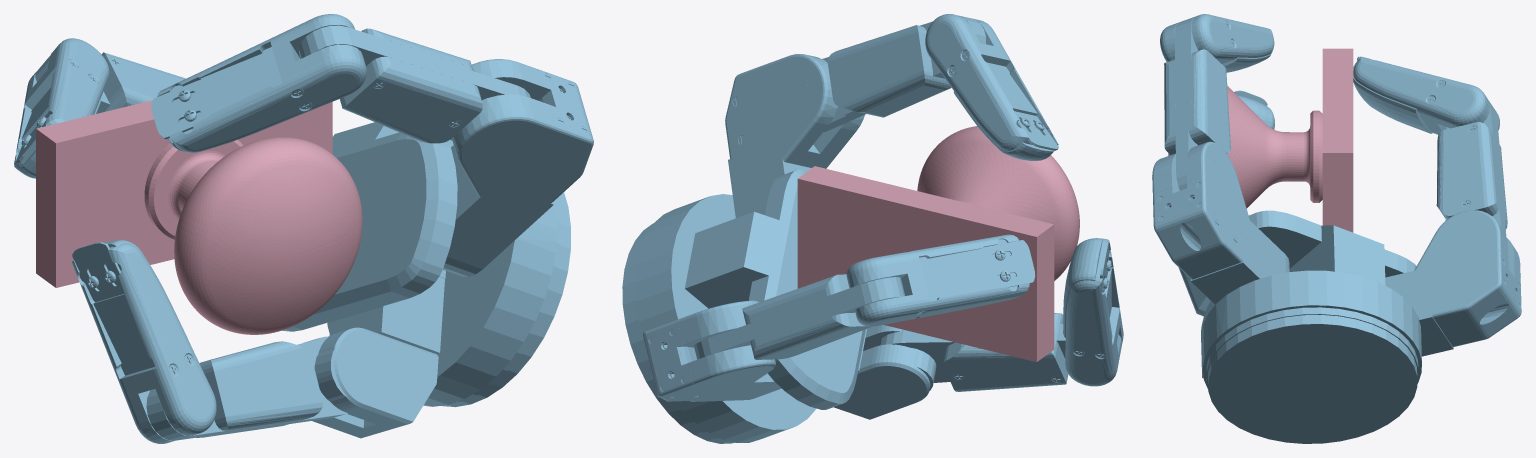
The picture shows the model from 3 angles, left to right: view 1: azimuth 30°, elevation 25°; view 2: azimuth 150°, elevation 25°; view 3: azimuth 270°, elevation 25°; orthographic projection. The views are drawn at different scales.
Parts seen in each view (by area): view 1: world; view 2: world; view 3: world.
Boxes of the visible parts, left/top/right/bottom form: world: left=14, top=14, right=593, bottom=443; world: left=622, top=14, right=1123, bottom=443; world: left=1152, top=14, right=1521, bottom=443.
Bounding box in the file's own units: 0.1793 × 0.1636 × 0.1495.
